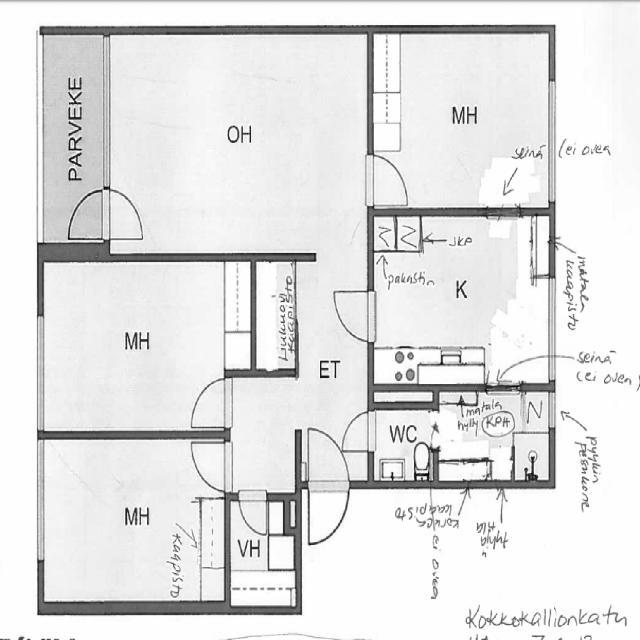door: (230, 491, 294, 609), (304, 422, 350, 546), (362, 147, 416, 210), (331, 282, 378, 344), (101, 184, 149, 244), (184, 373, 232, 431), (63, 186, 109, 243), (188, 433, 231, 493), (236, 490, 271, 538), (341, 411, 374, 454)
window: (30, 436, 50, 568), (30, 310, 50, 434), (99, 34, 114, 190), (543, 76, 560, 209), (544, 266, 560, 369), (480, 200, 527, 222), (546, 387, 558, 435)
zone: (108, 35, 372, 255), (39, 258, 244, 435), (370, 212, 554, 391), (372, 31, 554, 211), (38, 434, 222, 608), (433, 386, 552, 486), (229, 496, 297, 612), (370, 395, 438, 485), (252, 255, 297, 378), (63, 184, 110, 244), (371, 214, 421, 253)
